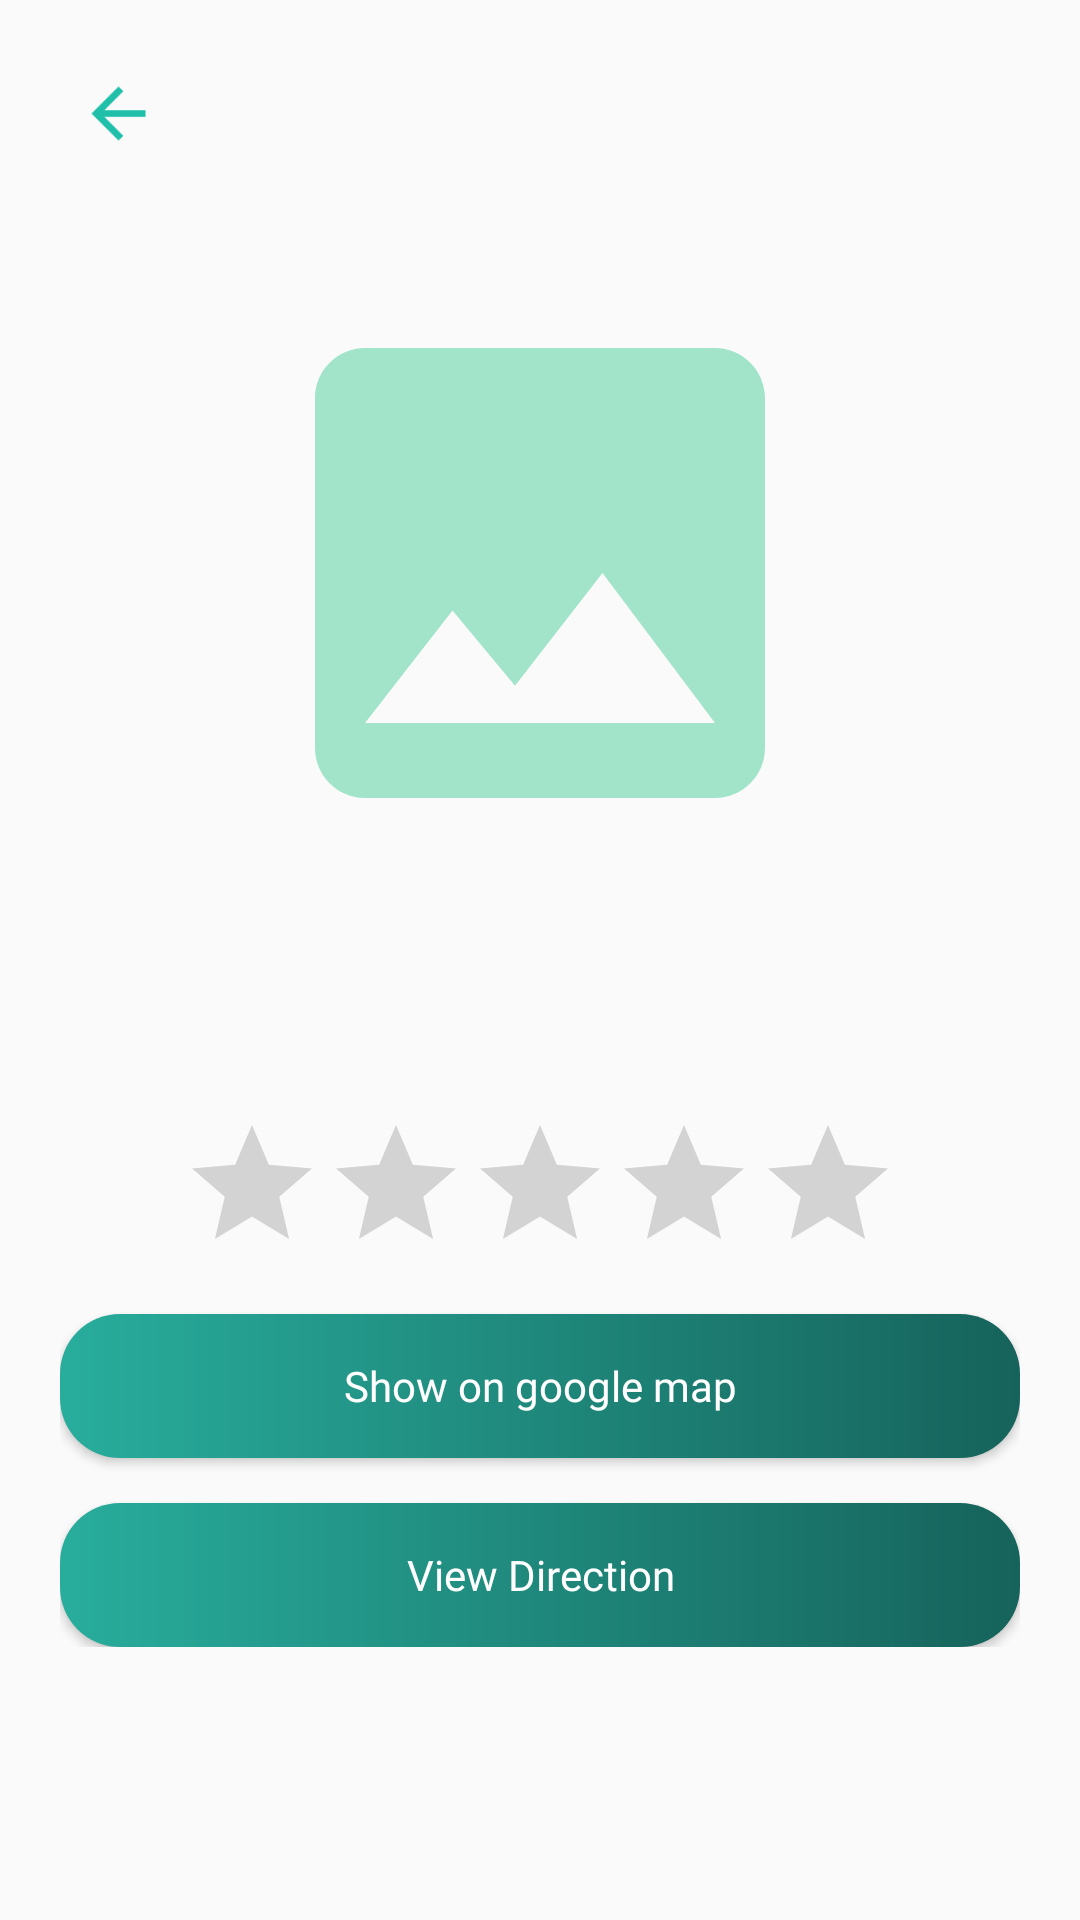

Named icons in this screenshot (1080 × 1920) and their bounding boxes, (x1, y1, x2, y2):
back arrow: (91, 86, 146, 141)
